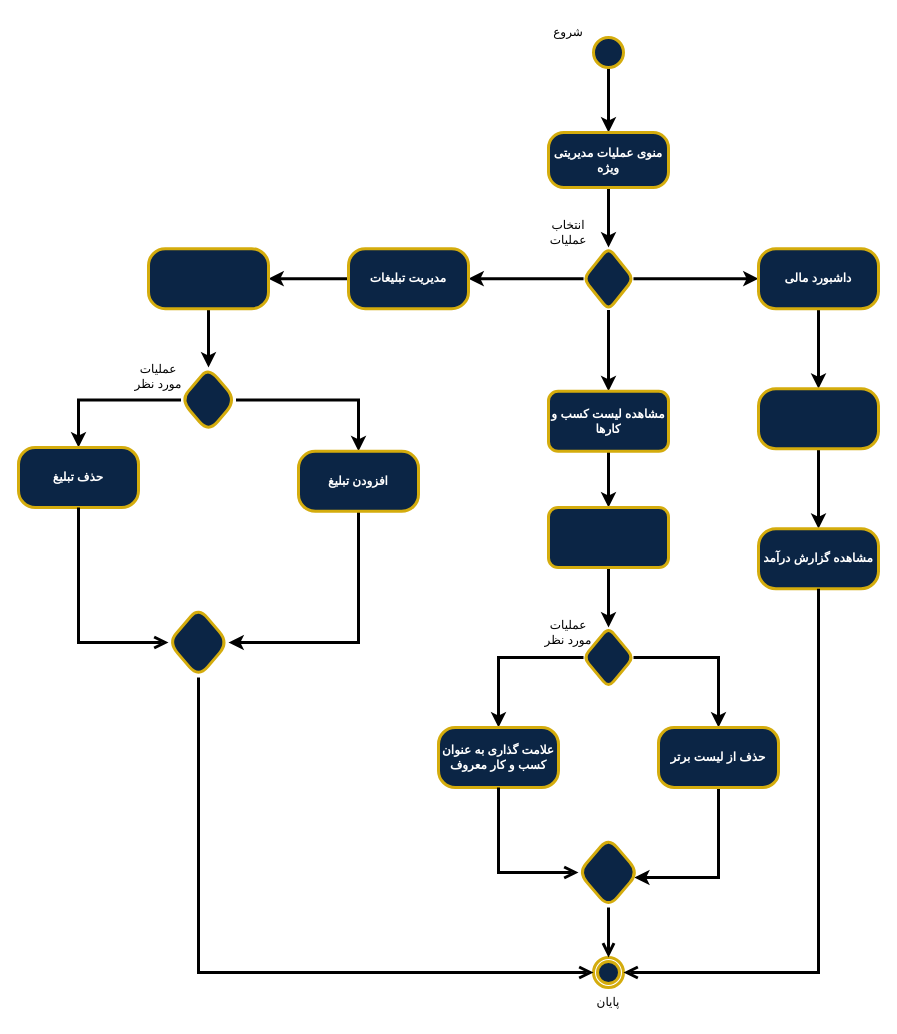
Some shapes in this 897 by 1034 pixel diagram are drawn without their labels. Each missing label, with the centre of its shape:
اعمال فیلتر بر اساس ثبت نوبت های موفق/امتیاز: point 608,537
انتخاب کسب و کار: point 818,418
مشاهده لیست تبلیغات: point 208,278
